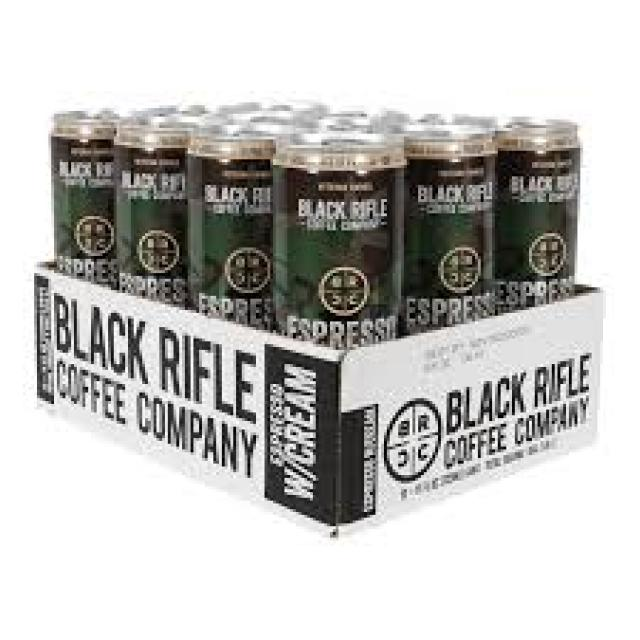Cans: (268, 131, 410, 353)
